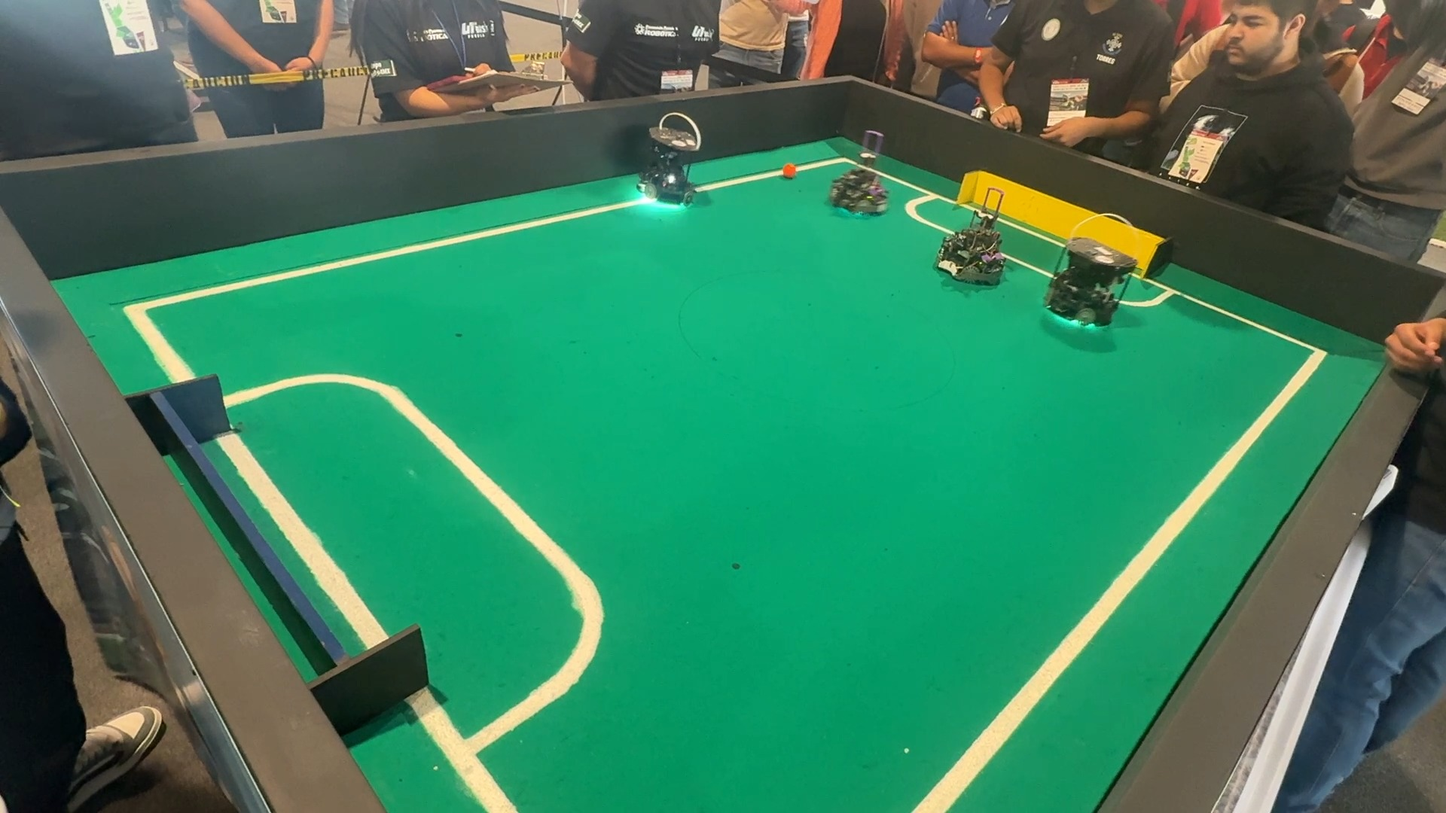Robot: (1019, 227, 1161, 354), (916, 176, 1030, 300), (621, 112, 708, 228), (807, 129, 900, 229), (776, 159, 802, 189)
